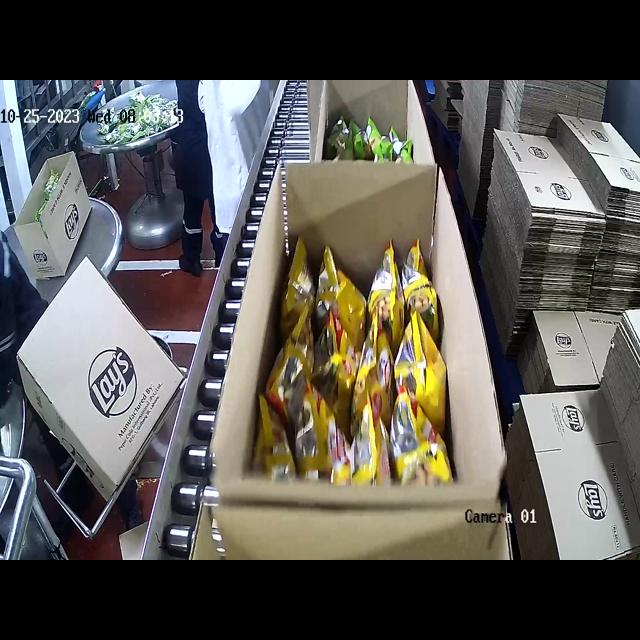salted: (273, 219, 441, 488)
yogurt: (322, 120, 409, 162)
